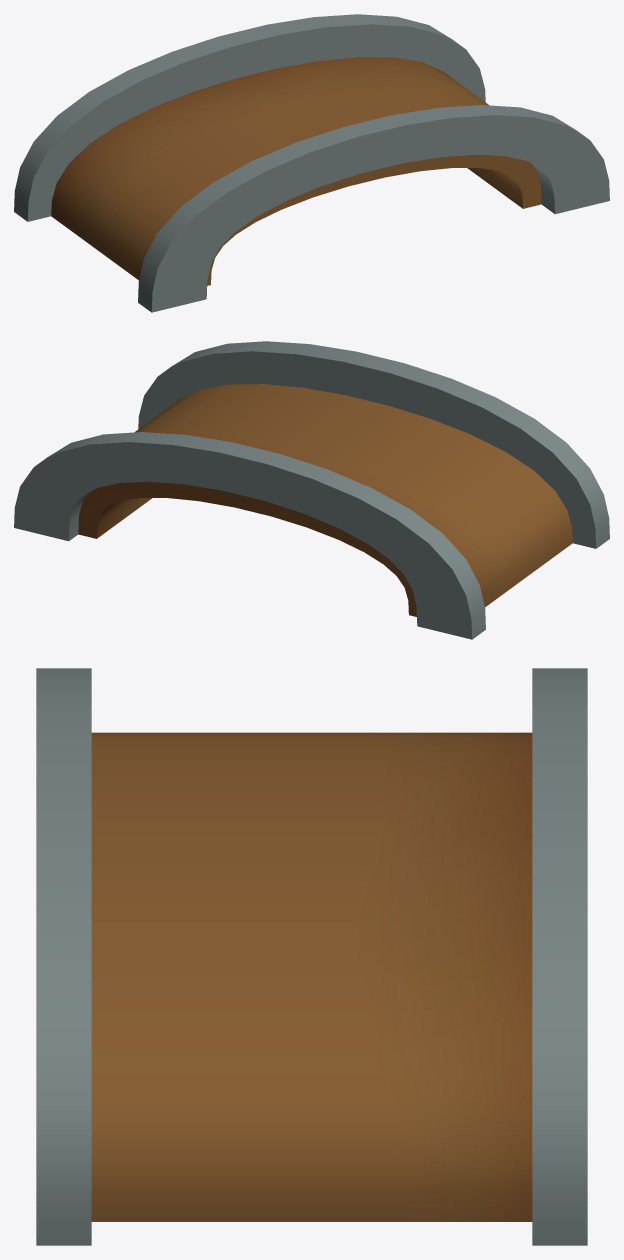
Rendered from bridge.fbx.
3 views of the same model, one above another, from view 1: azimuth 30°, elevation 25°; view 2: azimuth 150°, elevation 25°; view 3: azimuth 270°, elevation 25° (orthographic). The views are drawn at different scales.
Parts seen in each view (by area): view 1: polySurface187, polySurface185; view 2: polySurface187, polySurface185; view 3: polySurface185, polySurface187.
Boxes of the visible parts, x1,y1,x2,y2 form: polySurface187: (14, 14, 609, 312); polySurface185: (51, 57, 541, 285); polySurface187: (14, 341, 609, 639); polySurface185: (78, 384, 572, 616); polySurface185: (91, 732, 532, 1221); polySurface187: (36, 668, 587, 1245).
Size of the model in its own units: 1.1 by 0.289 by 0.575.
